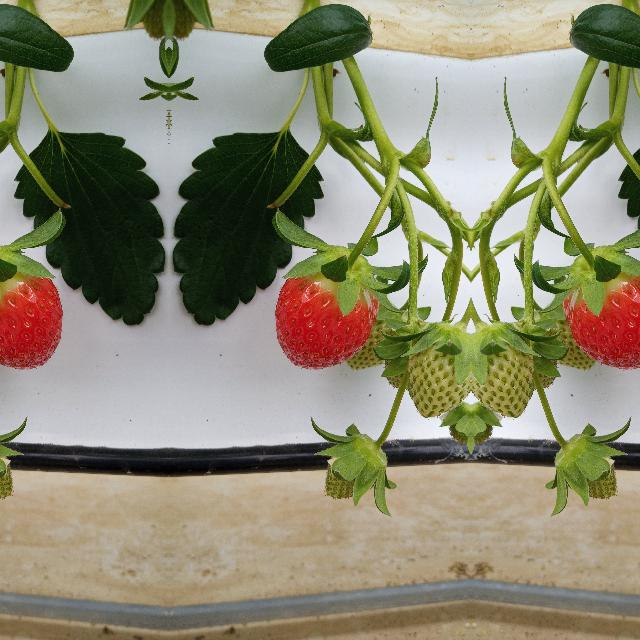Health_100: (274, 270, 378, 370), (562, 270, 640, 370), (0, 270, 62, 370)
Health_25: (538, 426, 624, 510), (318, 426, 402, 510), (408, 312, 470, 420), (471, 312, 533, 420), (0, 426, 18, 510)
